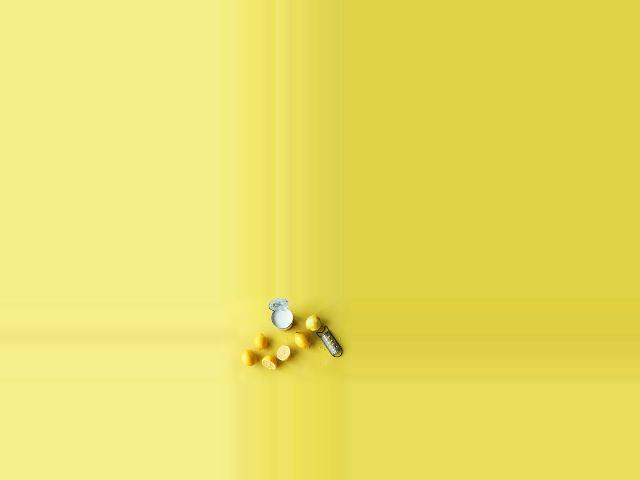lemon: (302, 314, 319, 334)
